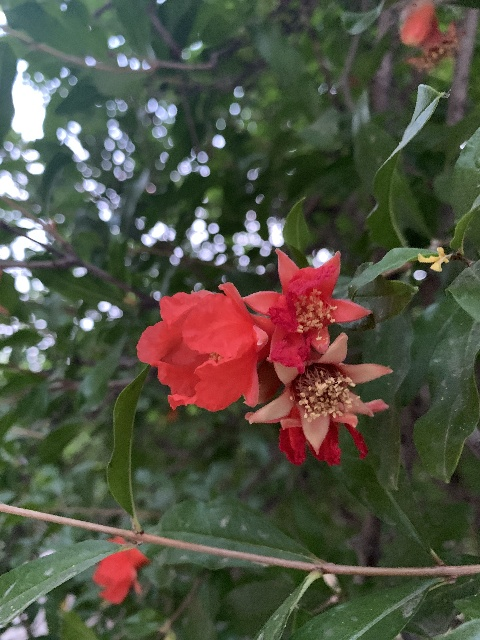bud: (397, 0, 435, 47)
flower: (244, 331, 393, 466), (136, 280, 275, 413), (244, 248, 372, 375), (92, 536, 150, 604)
